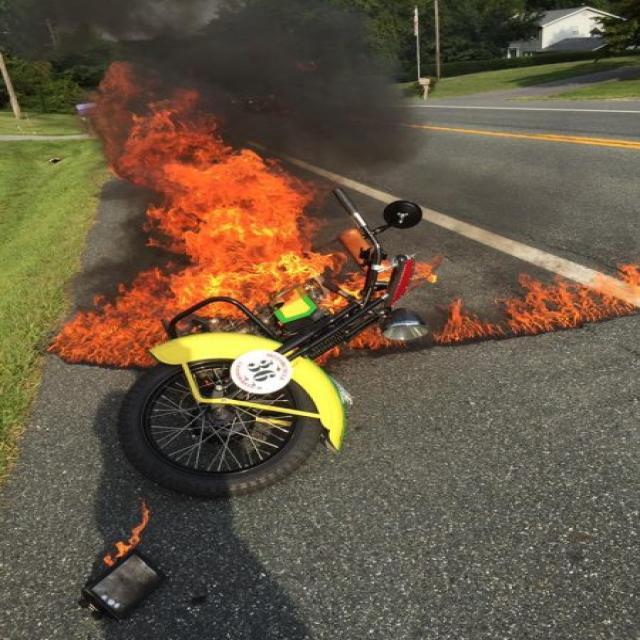Fire: (46, 59, 414, 370), (429, 265, 640, 345), (104, 502, 158, 567)
Smoke: (0, 0, 560, 314)
